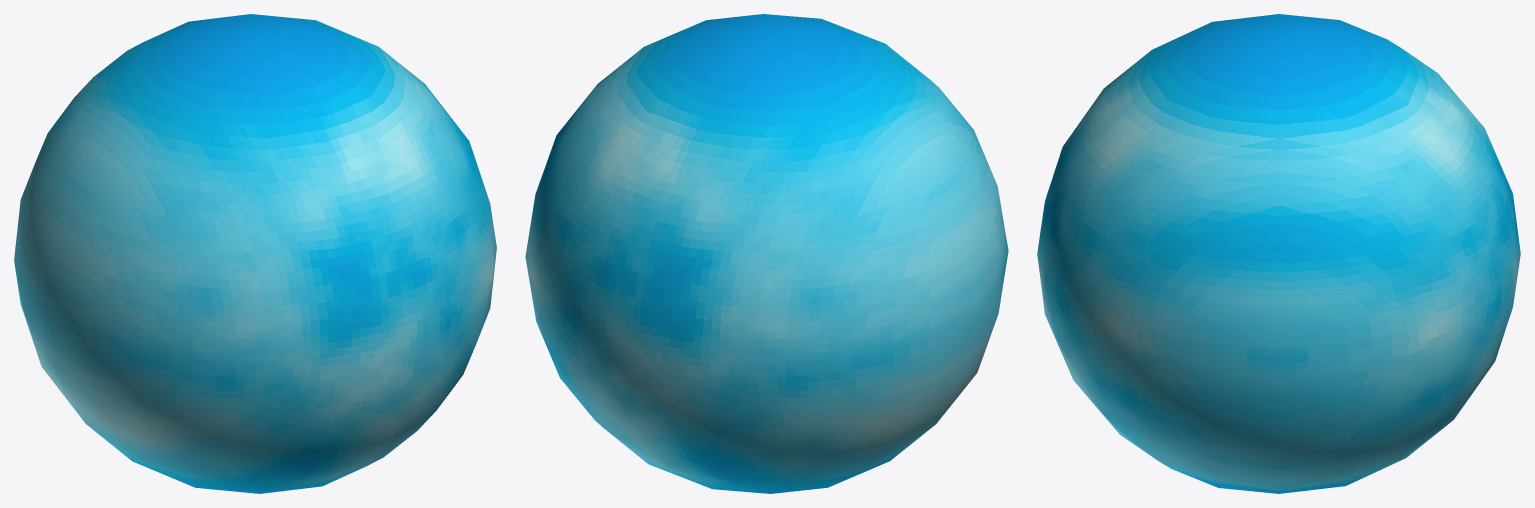
Rendered from sky.obj.
The picture shows the model from 3 angles, left to right: view 1: azimuth 30°, elevation 25°; view 2: azimuth 150°, elevation 25°; view 3: azimuth 270°, elevation 25°; orthographic projection.
Visible parts, largest first — view 1: Icosphere; view 2: Icosphere; view 3: Icosphere.
Part boxes in pixels (x1,y1,x2,y2): Icosphere: [14, 14, 496, 493]; Icosphere: [525, 14, 1008, 493]; Icosphere: [1037, 14, 1520, 493].
Bounding box in the file's own units: 128 × 128 × 128.
Materials: 1 (1 with a texture image).
